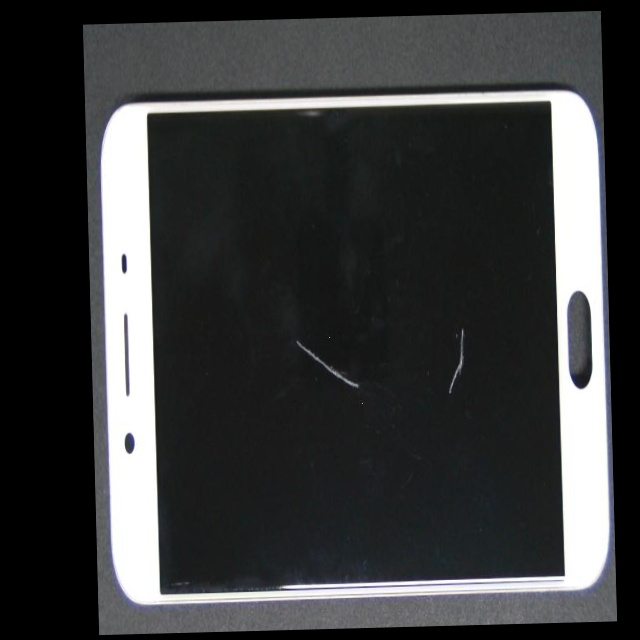scratch: (261, 201, 616, 591), (184, 181, 385, 514)
